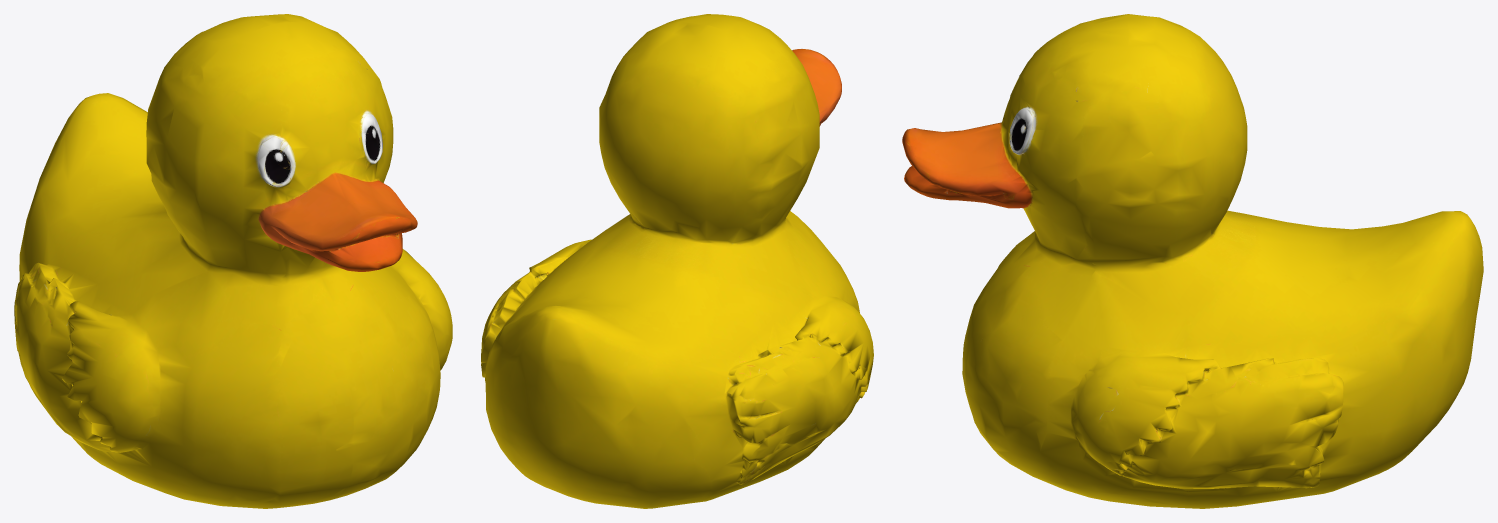
Rendered from duck.glb.
The picture shows the model from 3 angles, left to right: view 1: azimuth 30°, elevation 25°; view 2: azimuth 150°, elevation 25°; view 3: azimuth 270°, elevation 25°; orthographic projection. The views are drawn at different scales.
Visible parts, largest first — view 1: Mesh_0; view 2: Mesh_0; view 3: Mesh_0.
Part boxes in pixels (<box>): Mesh_0: <box>14,14,452,508</box>; Mesh_0: <box>481,14,873,508</box>; Mesh_0: <box>902,14,1483,508</box>.
Bounding box in the file's own units: 1.36 × 1.55 × 1.9.
1 material, 1 textured.
